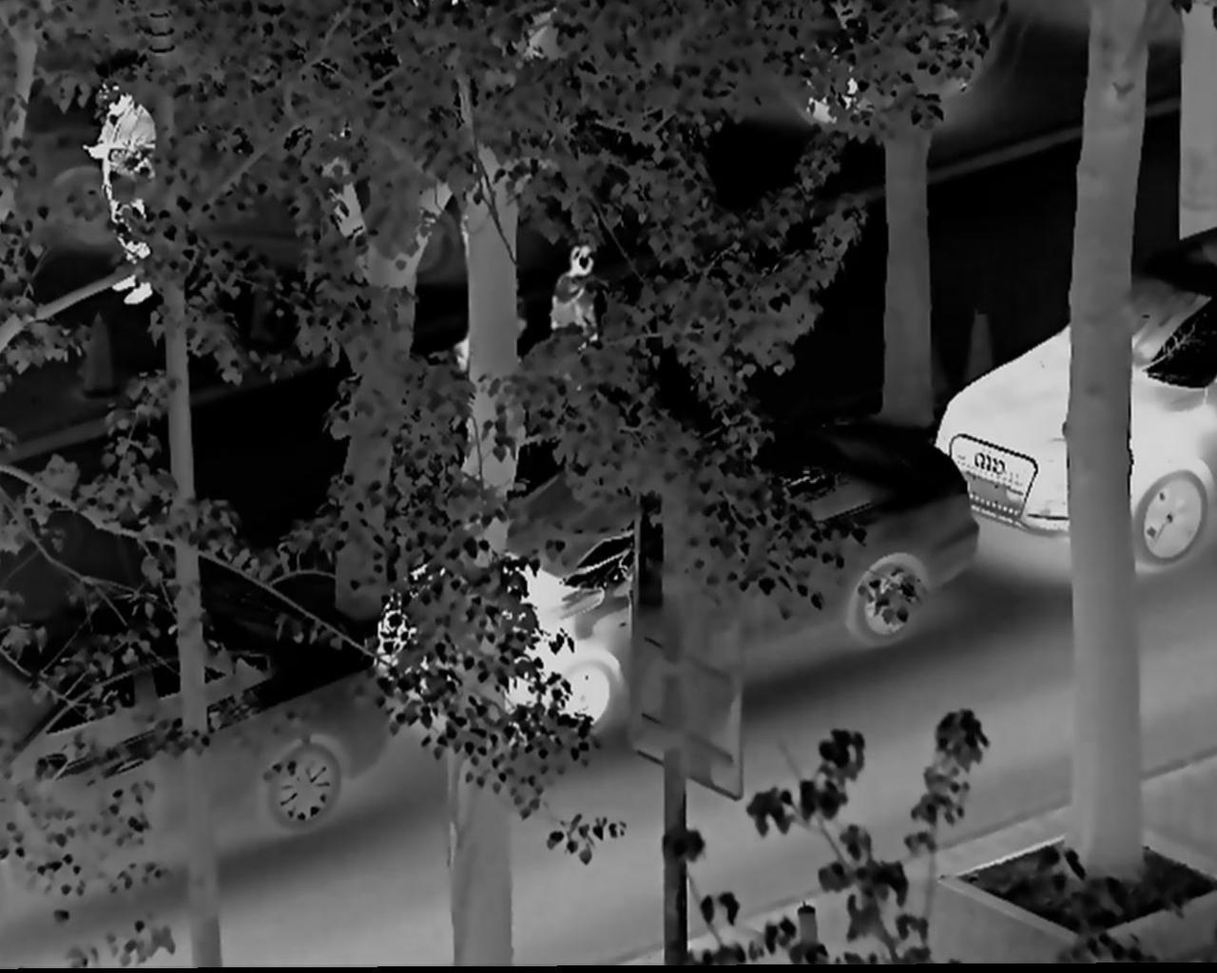person: (87, 86, 176, 311), (545, 250, 611, 391)
